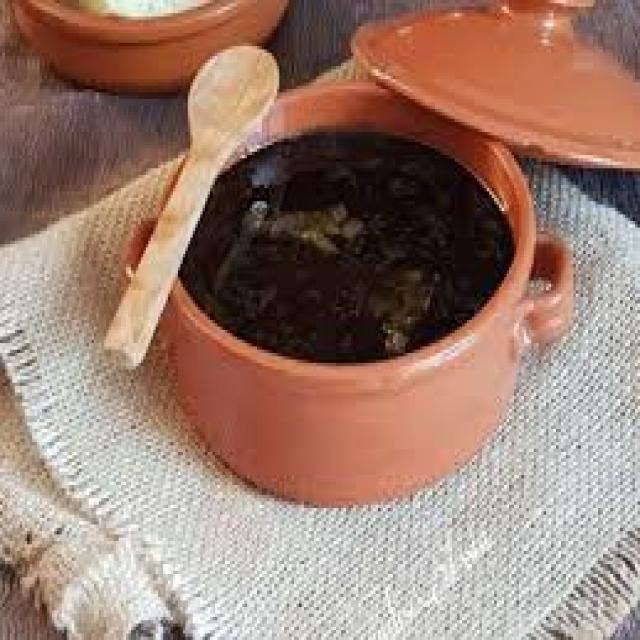Melloukhia: (155, 87, 545, 380)
